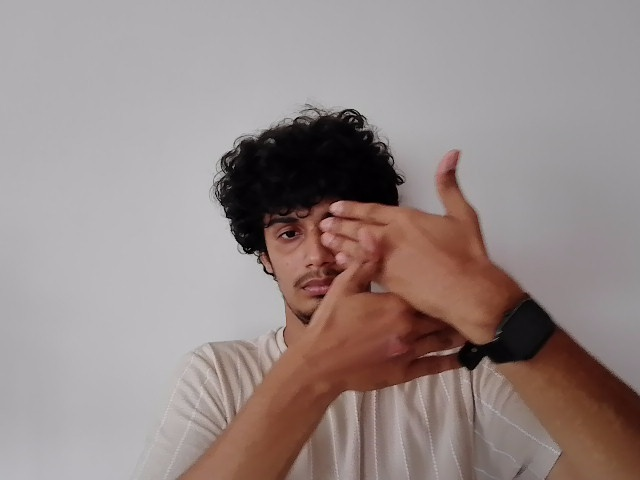work: (303, 149, 490, 383)
